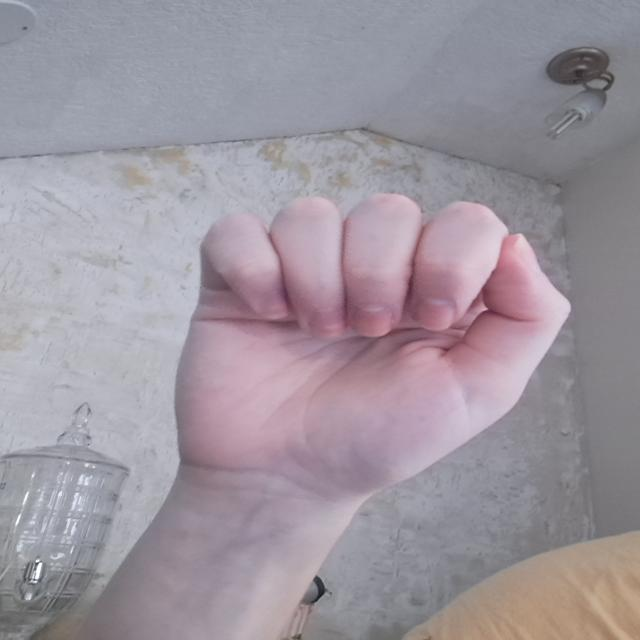A: (154, 194, 580, 494)
